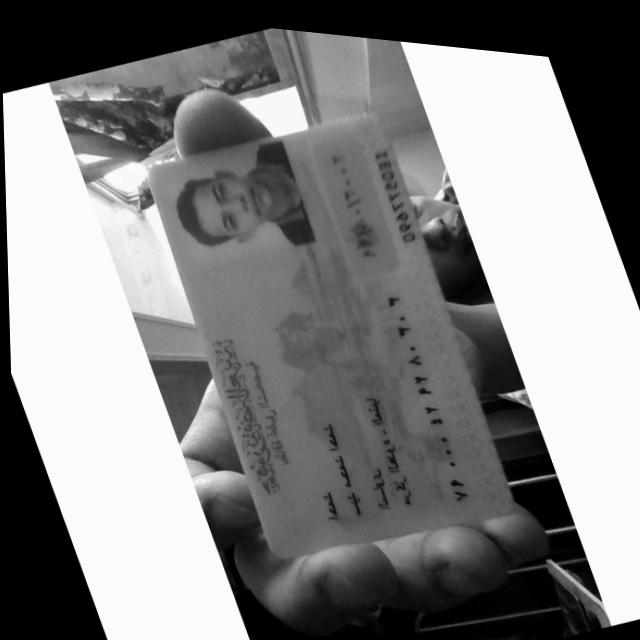id_card: (147, 115, 512, 557)
